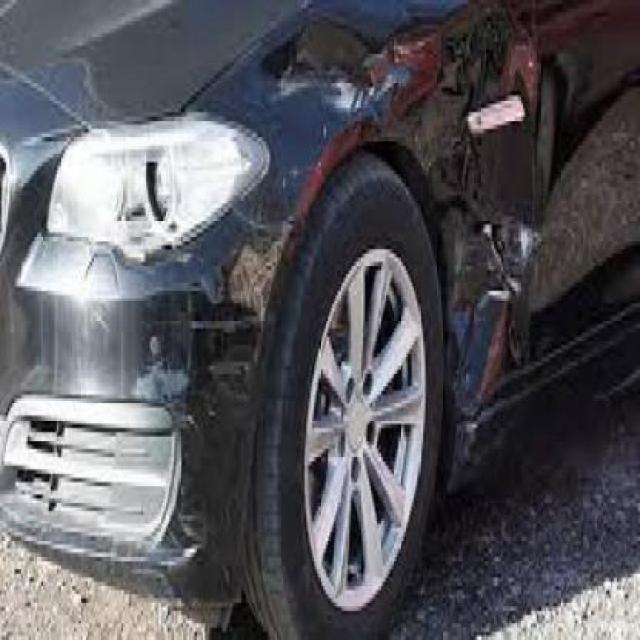Headlight-Damage: (100, 135, 182, 243)
fender-dent: (447, 181, 548, 410), (252, 5, 454, 113)
